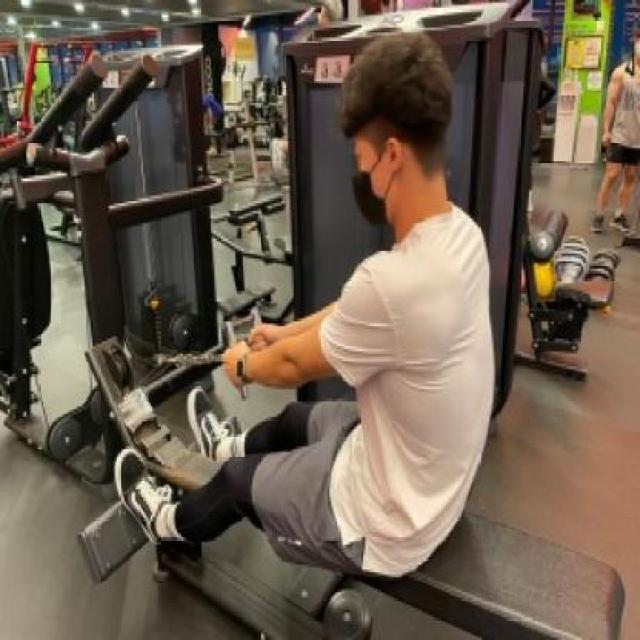Seated Cable Rows: (7, 38, 640, 638)
